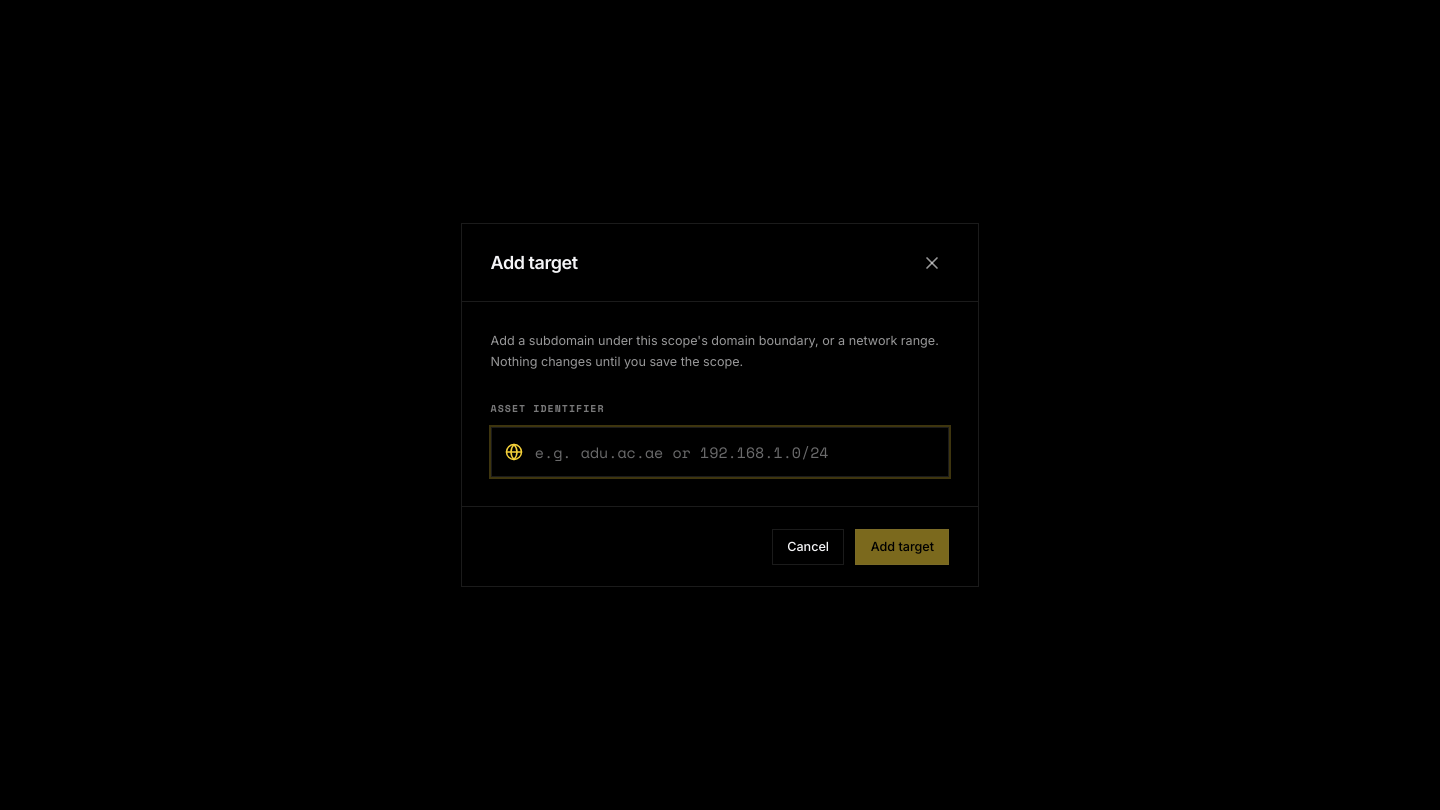
Scenario: AddTargetModal › switches private CIDR targets to private-runner guidance
Type "192.168.1.0/24" into the field at (720,452), box [491,427,949,477]
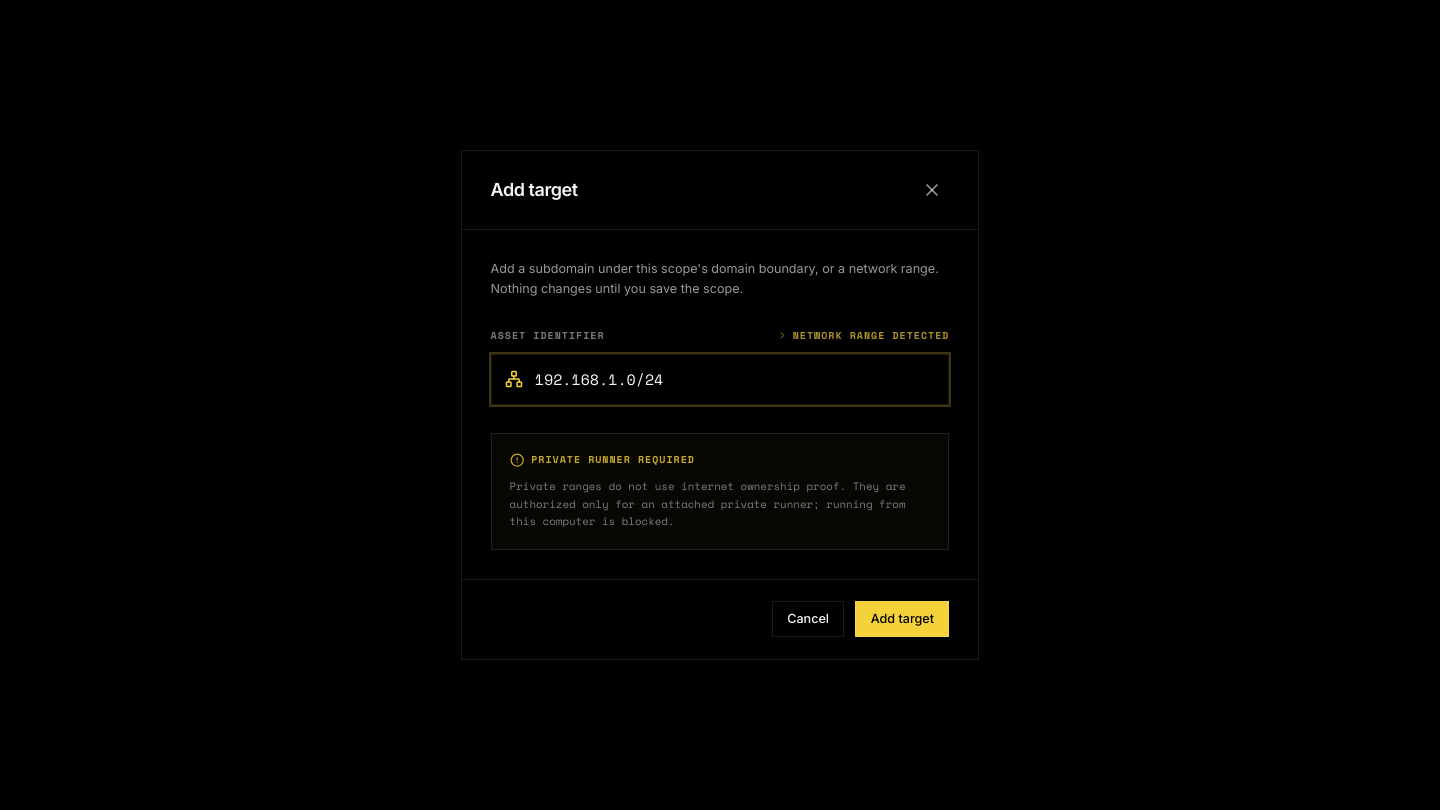
Check: the text "Private Runner Required" is shown, box [531,452,695,467]
Check: the text "Private ranges do not use internet ownership proof" is shown, box [510,478,906,529]
